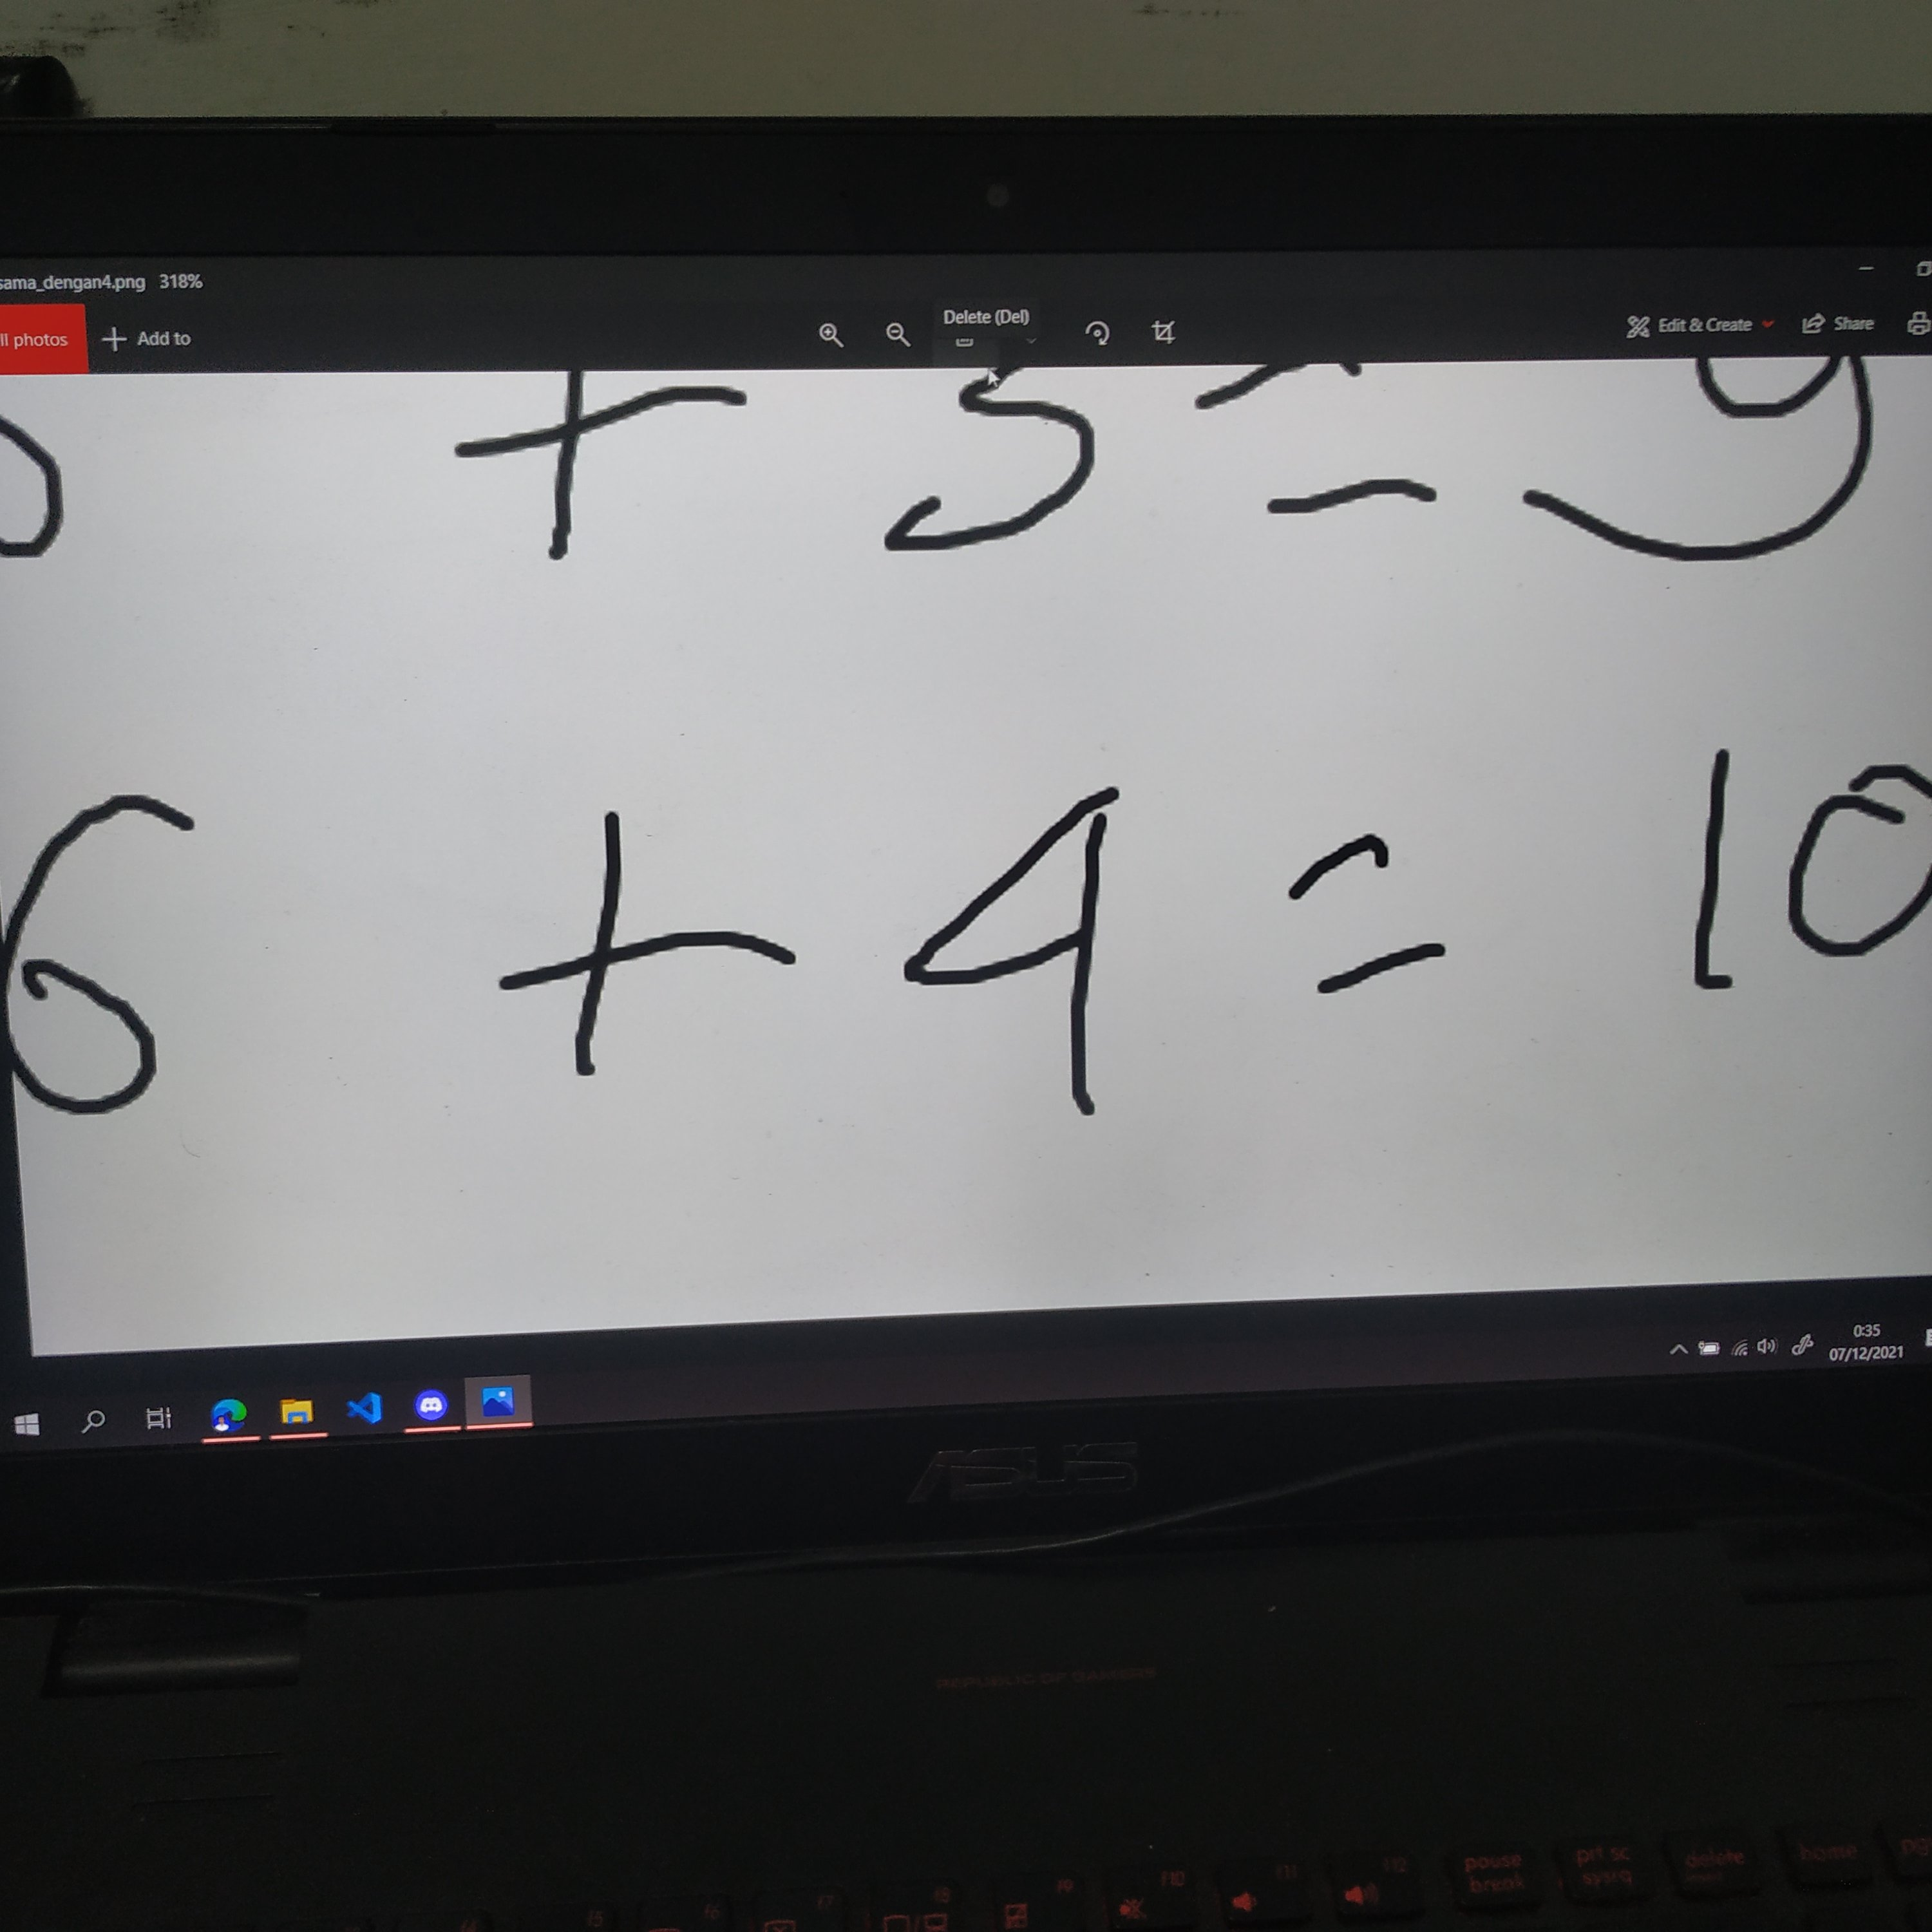num0: (1772, 754, 1932, 983)
num1: (1652, 735, 1748, 1022)
num9: (3, 762, 250, 1132)
sum: (470, 783, 828, 1097), (889, 760, 1170, 1126), (1262, 791, 1490, 1020)
